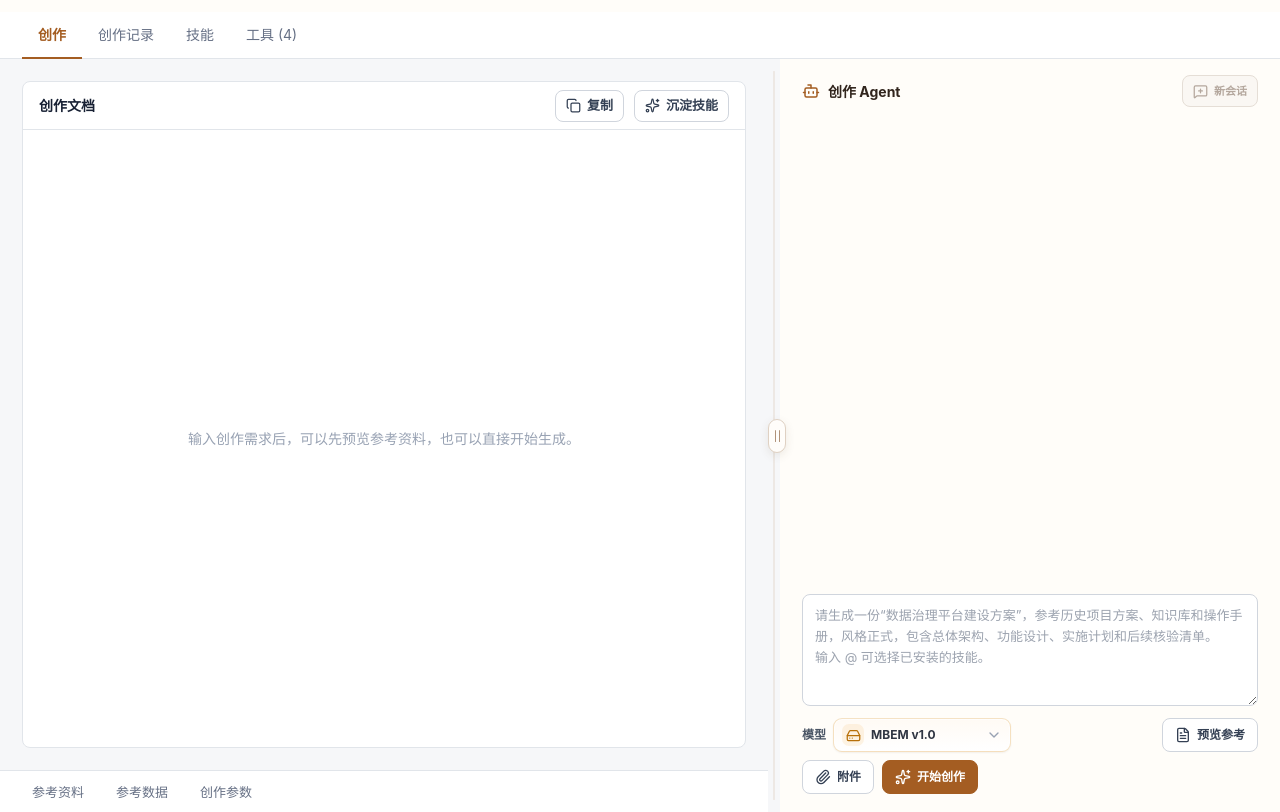
Test: 创作 Agent 多轮 Loop › 完成事件可恢复最终文档，避免中间文档事件缺失后误报失败
Replace the text in the text box with placeholder "输入 @ 可选择已安装的技能" with "增加行业调研" at (1030,650), box [802,594,1258,706]
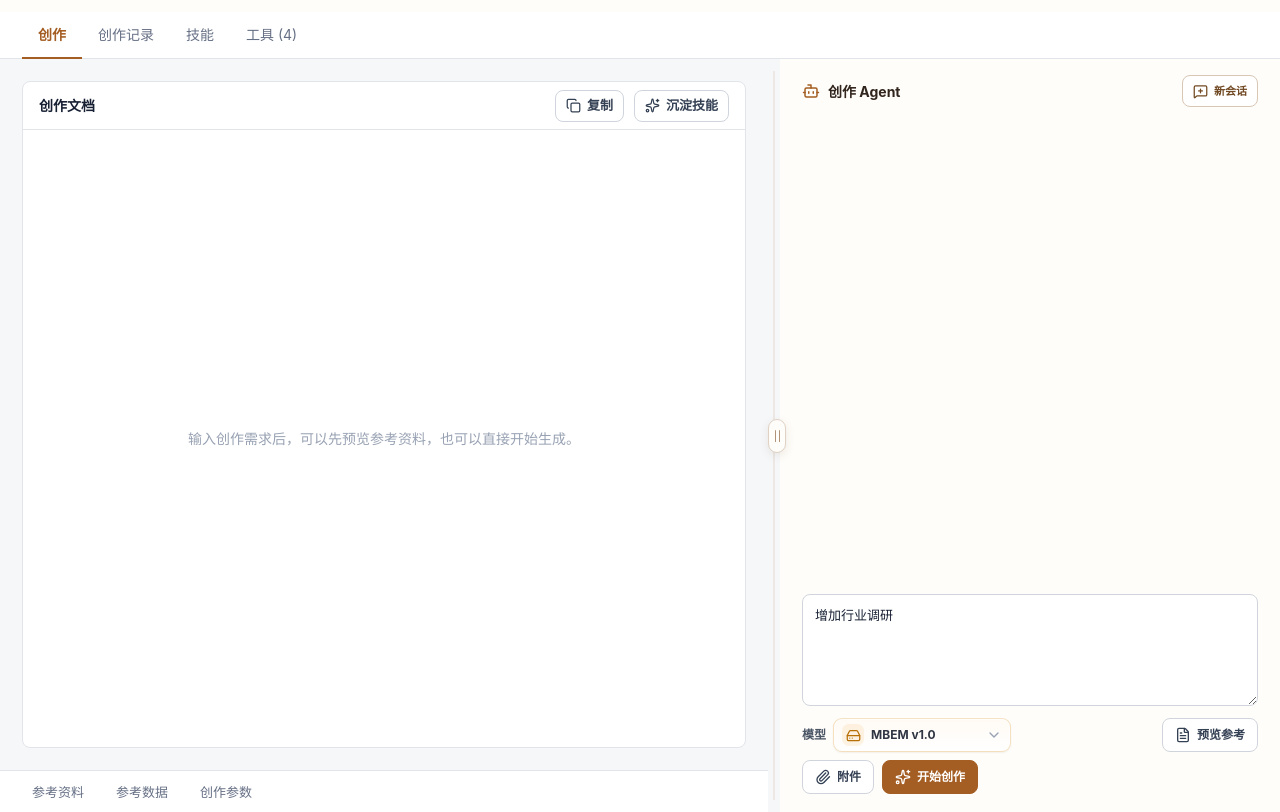
Click the button "开始创作" at (930,777), box [882,760,978,794]
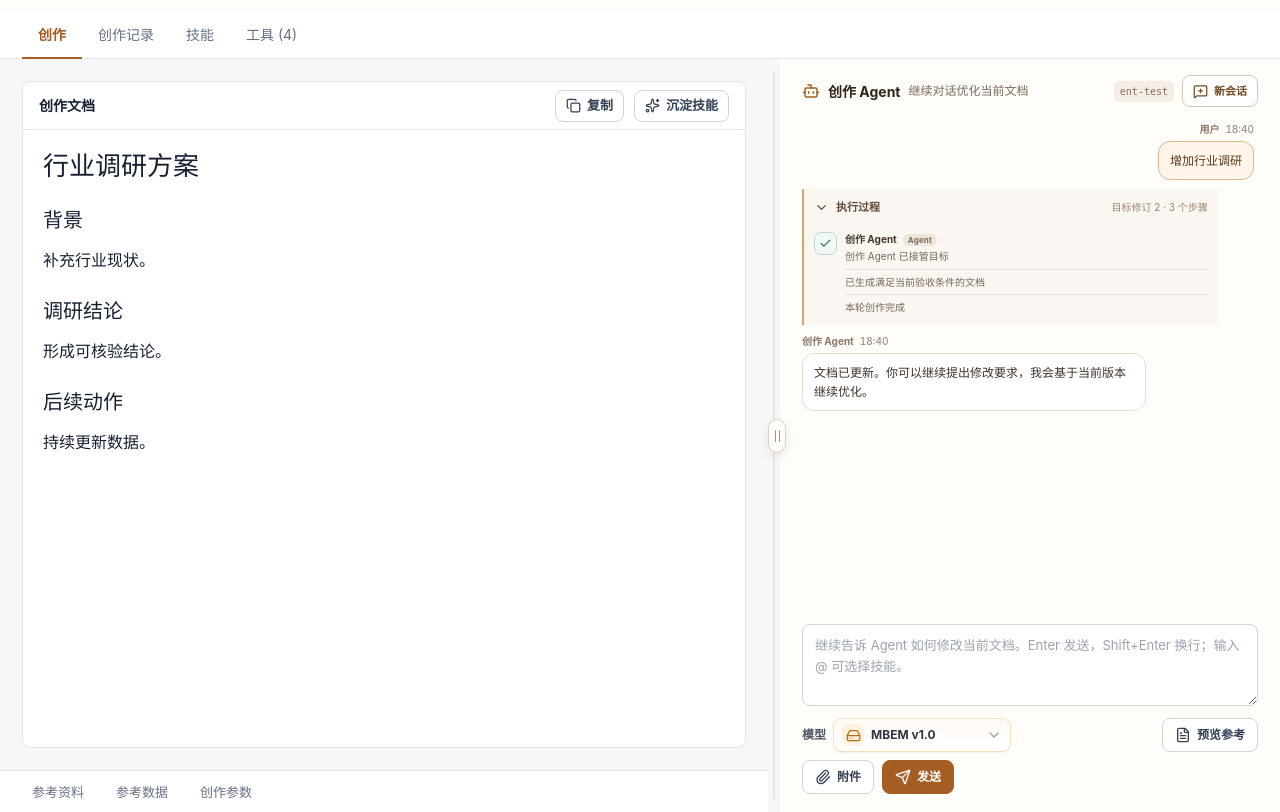
Now the heading "行业调研方案" is shown, box [43,150,199,181]
